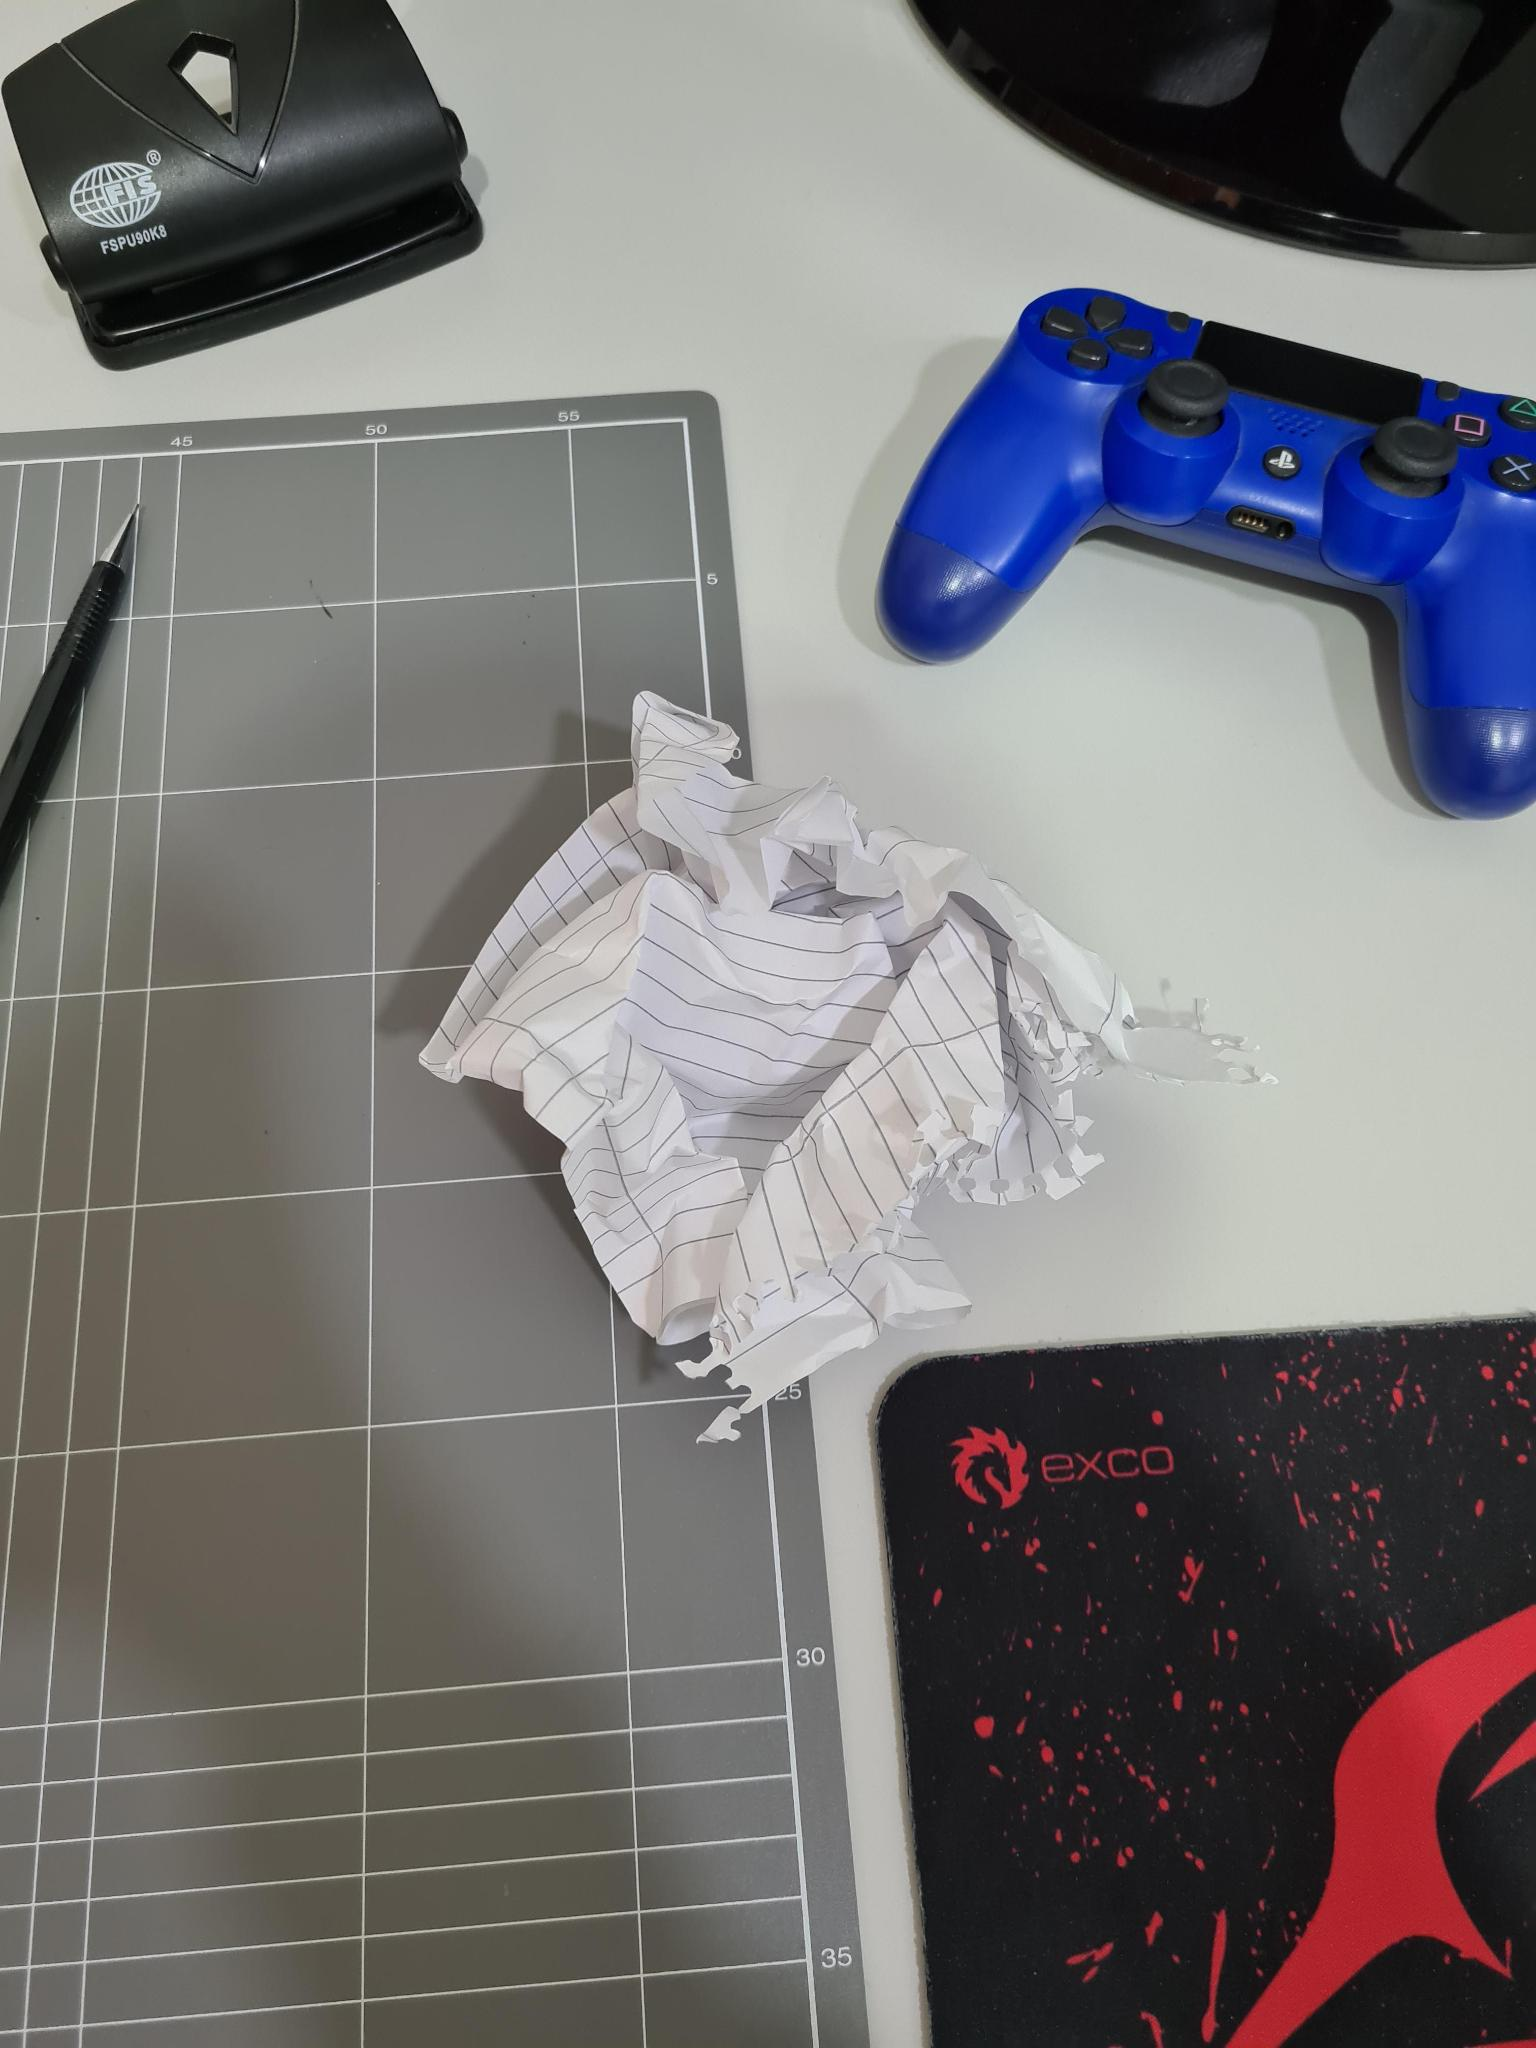metal: (5, 0, 481, 368)
paper: (423, 693, 1254, 1438)
